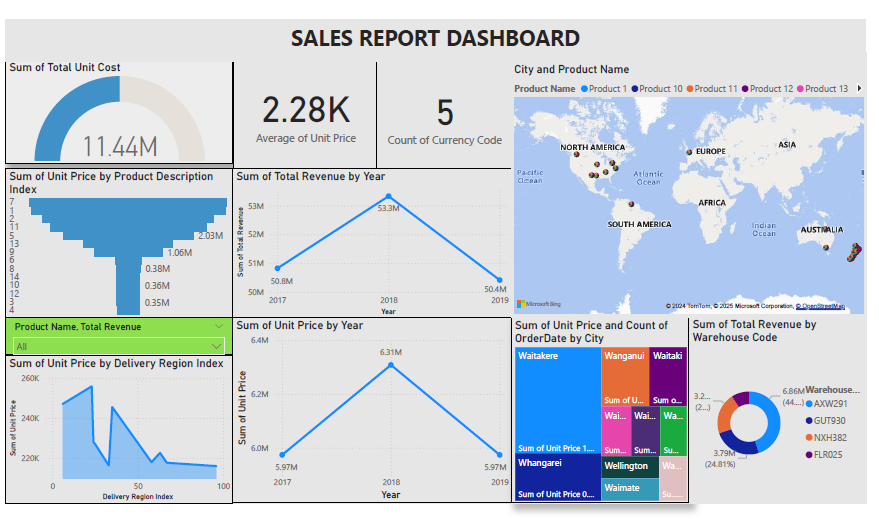

The page's visual inventory and layout, read from the dashboard file:
{"tool":"powerbi","page":{"name":"Page 1","canvas":[1280,720],"ordinal":0},"visuals":[{"type":"gauge","fields":{"Y":["Sum(Sales_Data.Total Unit Cost)"]},"box":[9.7,8.1,354.6,218.6],"z":0},{"type":"card","fields":{"Values":["Avg(Sales_Data.Unit Price)"]},"box":[364.7,7.6,275.9,215.4],"z":1000},{"type":"card","fields":{"Values":["Count(Sales_Data.Currency Code)"]},"box":[631.2,7.6,270.2,215.4],"z":2000},{"type":"funnel","fields":{"Category":["Sales_Data.Product Description Index"],"Y":["Sum(Sales_Data.Unit Price)"]},"box":[9.4,223,342,262.7],"z":3000},{"type":"lineChart","fields":{"Y":["Sum(Sales_Data.Total Revenue)"],"Category":["Sales_Data.OrderDate.Variation.Date Hierarchy.Year"]},"box":[351.5,223,549.9,217.3],"z":4000},{"type":"lineChart","fields":{"Category":["Sales_Data.OrderDate.Variation.Date Hierarchy.Year"],"Y":["Sum(Sales_Data.Total Unit Cost)"]},"box":[351.5,440.3,279.7,279.7],"z":5000},{"type":"treemap","fields":{"Values":["Sum(Sales_Data.Unit Price)","Count(Sales_Data.OrderDate)"],"Group":["Regions_Table.City"]},"box":[631.2,440.3,374.2,279.7],"z":6000},{"type":"donutChart","fields":{"Y":["Sum(Sales_Data.Total Revenue)"],"Category":["Sales_Data.Warehouse Code"]},"box":[1005.4,440.3,274,279.7],"z":7000},{"type":"map","fields":{"Category":["Regions_Table.Full Address"],"Series":["Products_Data.Product Name"]},"box":[901.4,7.6,378,432.8],"z":8000},{"type":"areaChart","fields":{"Category":["Sales_Data.Delivery Region Index"],"Y":["Sum(Sales_Data.Unit Price)"]},"box":[9,486,342,234],"z":9000}]}

Visuals, with their boxes in screenshot pixels (x1, y1, x2, y2):
gauge - Sum(Sales_Data.Total Unit Cost): region(0, 19, 240, 167)
card - Avg(Sales_Data.Unit Price): region(240, 19, 427, 165)
card - Count(Sales_Data.Currency Code): region(421, 19, 604, 165)
funnel - Sales_Data.Product Description Index x Sum(Sales_Data.Unit Price): region(0, 165, 231, 343)
lineChart - Sum(Sales_Data.Total Revenue) x Sales_Data.OrderDate.Variation.Date Hierarchy.Year: region(231, 165, 604, 312)
lineChart - Sales_Data.OrderDate.Variation.Date Hierarchy.Year x Sum(Sales_Data.Total Unit Cost): region(231, 312, 421, 501)
treemap - Sum(Sales_Data.Unit Price) x Count(Sales_Data.OrderDate): region(421, 312, 674, 501)
donutChart - Sum(Sales_Data.Total Revenue) x Sales_Data.Warehouse Code: region(674, 312, 860, 501)
map - Regions_Table.Full Address x Products_Data.Product Name: region(604, 19, 860, 312)
areaChart - Sales_Data.Delivery Region Index x Sum(Sales_Data.Unit Price): region(0, 343, 231, 501)
